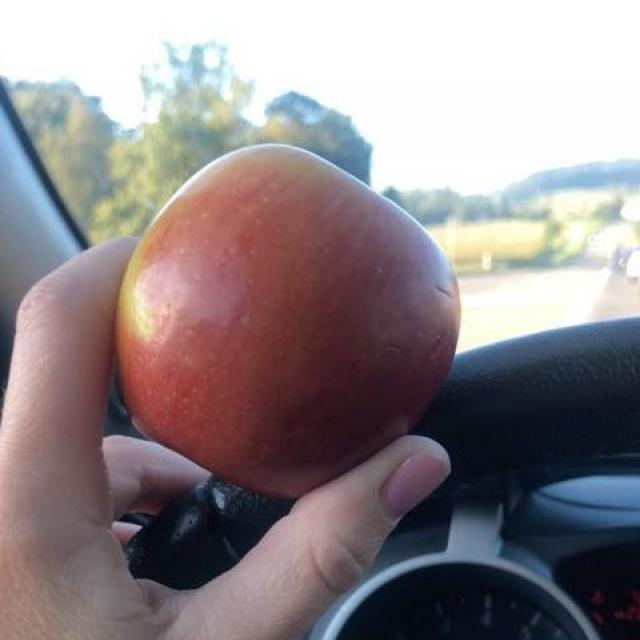apple: (118, 153, 454, 488)
